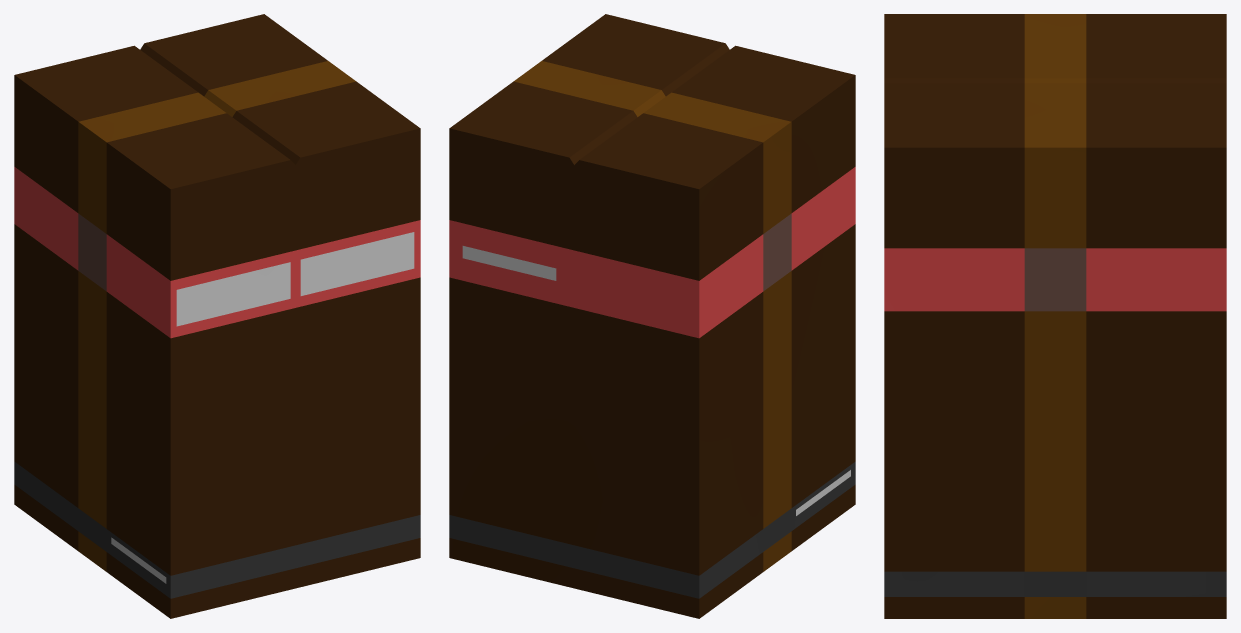
3 views of the same model, side by side, from view 1: azimuth 30°, elevation 25°; view 2: azimuth 150°, elevation 25°; view 3: azimuth 270°, elevation 25° (orthographic). The views are drawn at different scales.
Parts seen in each view (by area): view 1: SM_Box_D_D; view 2: SM_Box_D_D; view 3: SM_Box_D_D.
Part boxes in pixels (box(x1,y1,x2,y2)): SM_Box_D_D: box(14, 14, 420, 618); SM_Box_D_D: box(449, 14, 855, 618); SM_Box_D_D: box(884, 14, 1226, 618).
Size of the model in its own units: 37.46 by 61.57 by 40.57.
